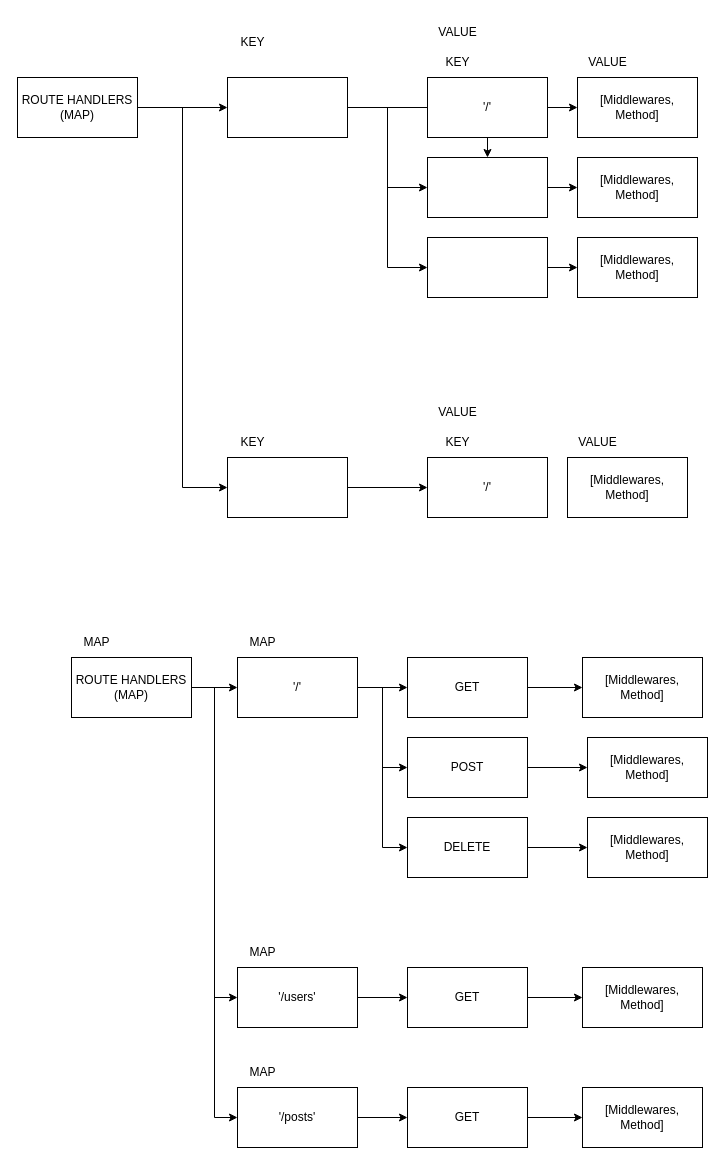
Image size: 725x1165. Some labels were removed from this diagram. The shapes that lost their labels are listed below. From the top down, each one's box as (x1, y1, x2, y2) in pixels, then its label:
(226, 76, 348, 138): GET (MAP)
(426, 156, 548, 218): '/getstatus'
(426, 236, 548, 298): '/getposts'
(226, 456, 348, 518): POST (MAP)
